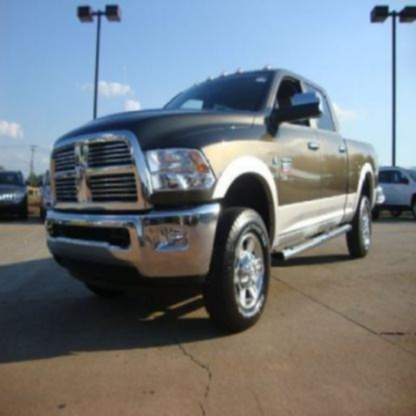Vehicle: (45, 68, 380, 333)
